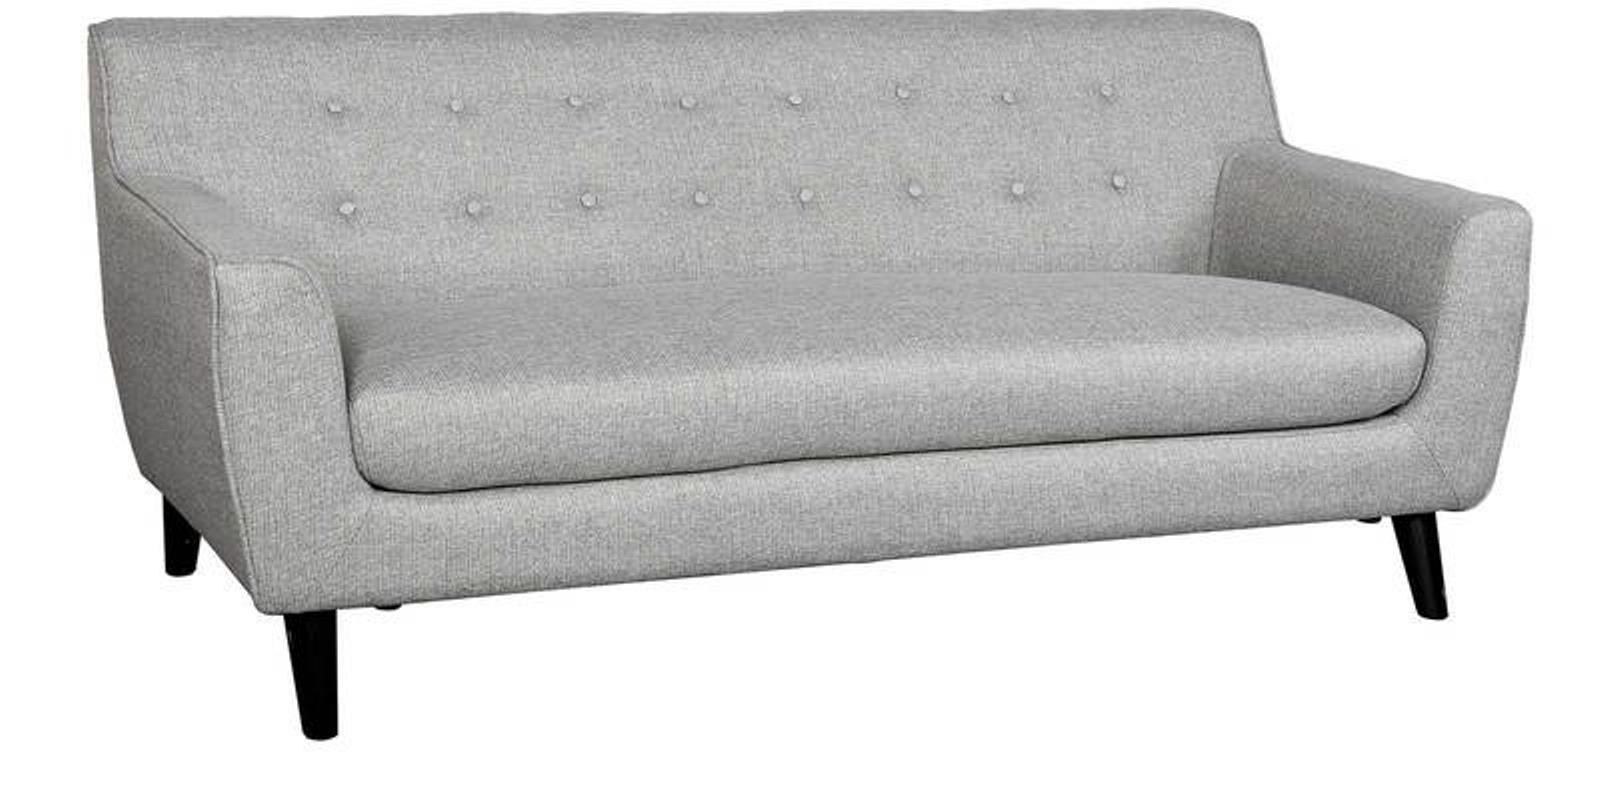Bogota Three Seater Sofa in Grey Colour by CasaCraft: (66, 19, 1540, 655)
